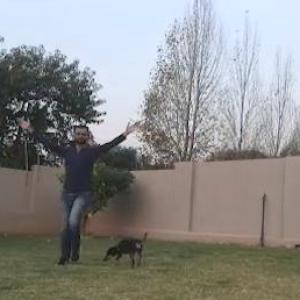takeoff: (27, 121, 149, 258)
